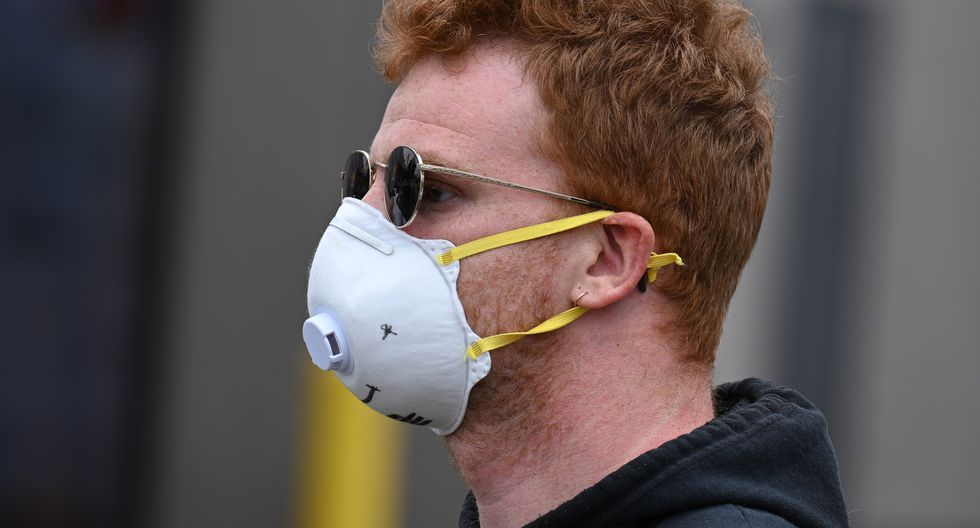with_mask: (313, 8, 789, 507)
